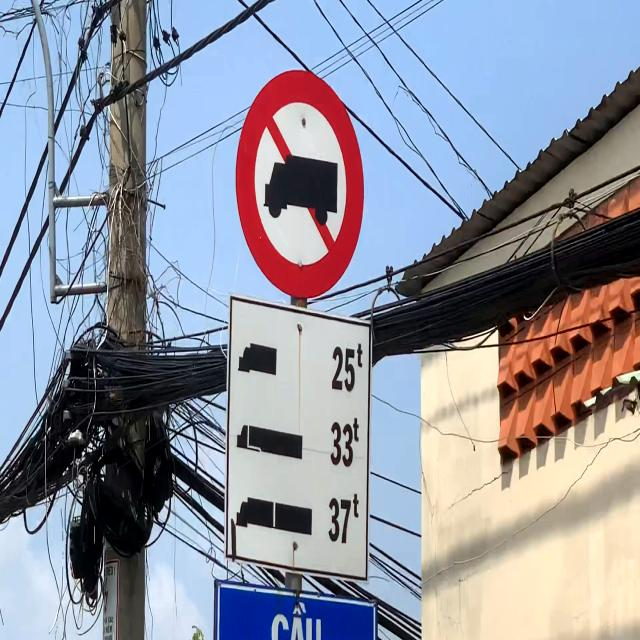P.106a: (236, 67, 364, 300)
